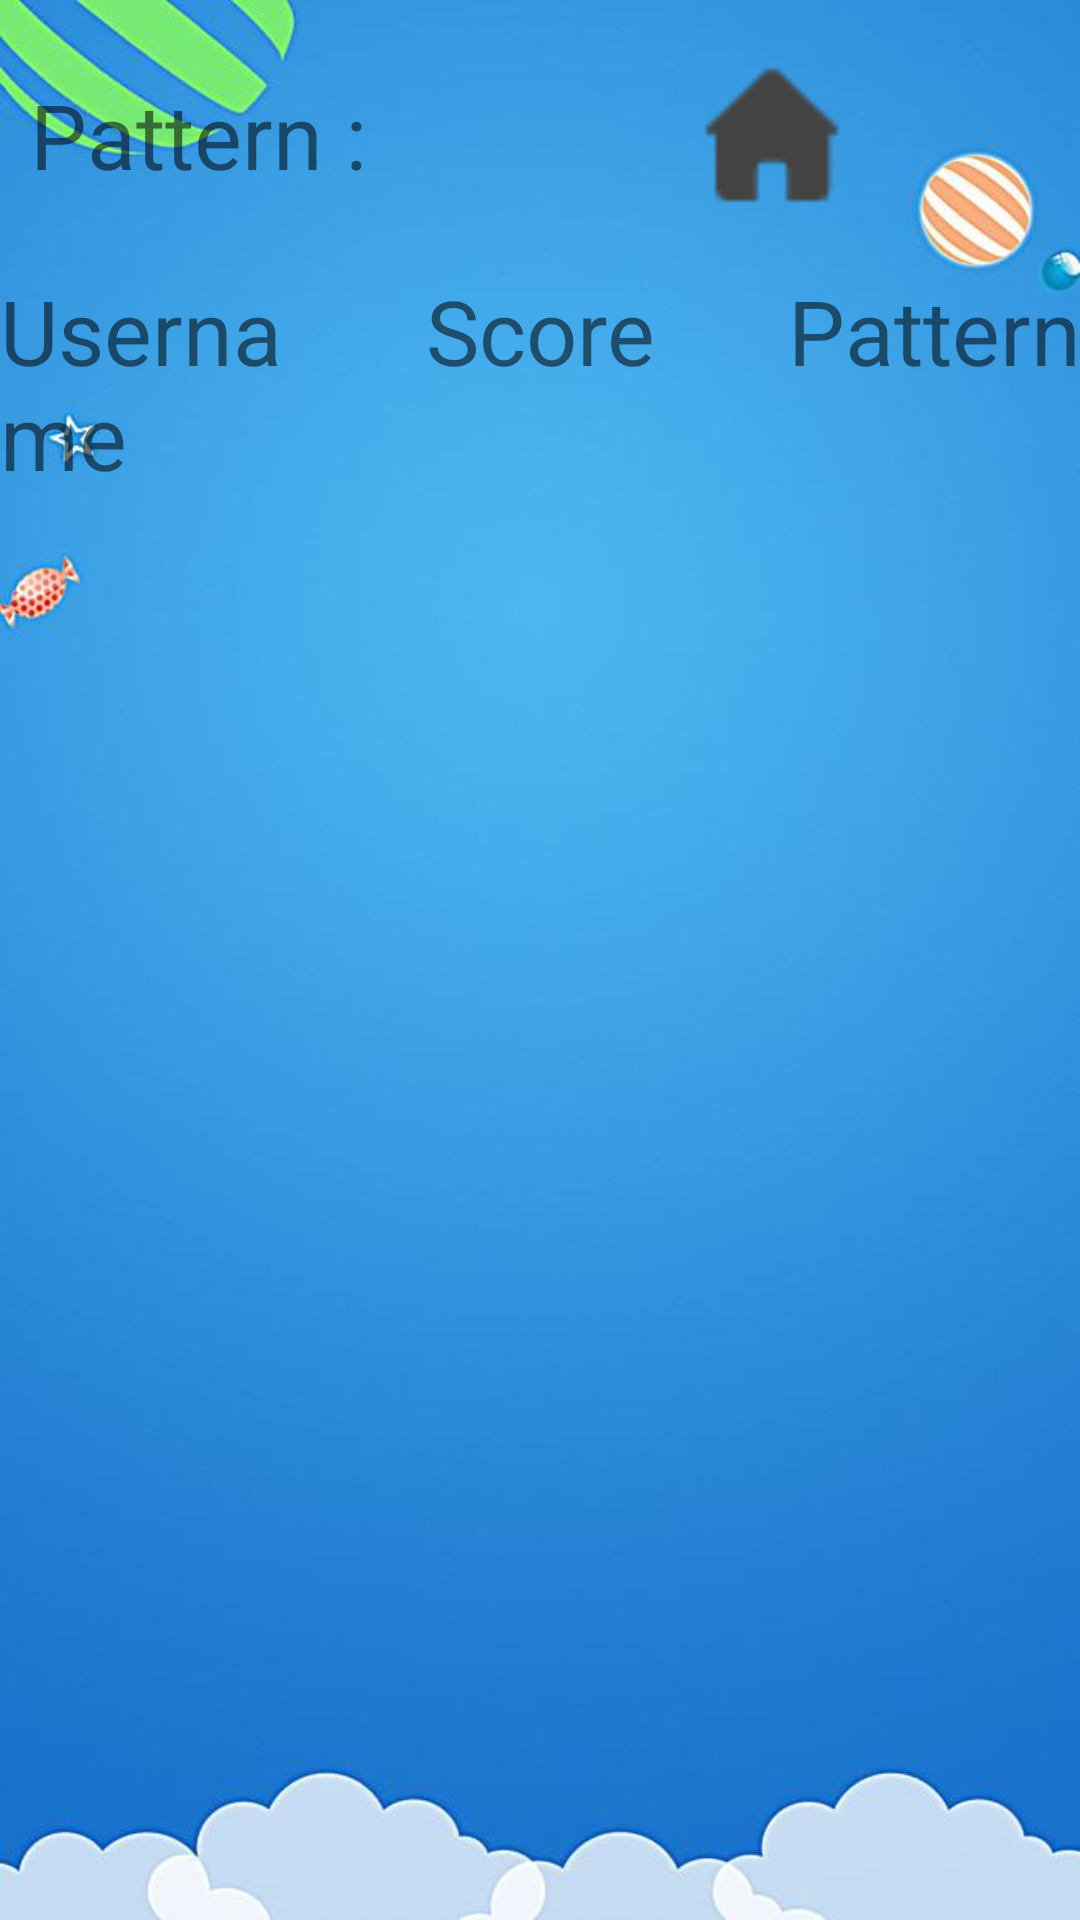

Icon bounding boxes for this 1080 × 1920 phone screenshot, format bbox(x1, y1, x2, y2):
home: bbox(705, 68, 839, 202)
